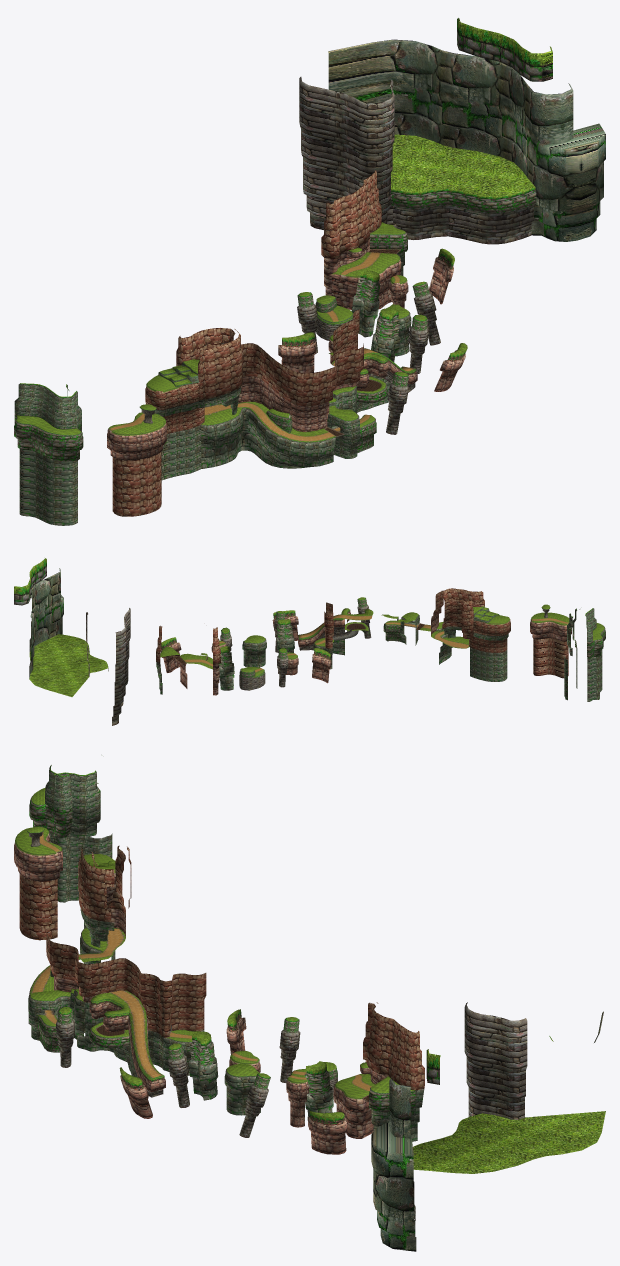
The model's file is windy_valley.glb.
3 views of the same model, one above another, from view 1: azimuth 30°, elevation 25°; view 2: azimuth 150°, elevation 25°; view 3: azimuth 270°, elevation 25° (orthographic). The views are drawn at different scales.
Parts seen in each view (by area): view 1: Windy_Valley_1; view 2: Windy_Valley_1; view 3: Windy_Valley_1.
Part boxes in pixels (<box>): Windy_Valley_1: <box>14,18,605,525</box>; Windy_Valley_1: <box>14,558,605,725</box>; Windy_Valley_1: <box>14,765,605,1251</box>.
Bounding box in the file's own units: 47.87 × 11.46 × 31.67.
Materials: 20 (20 with a texture image).
